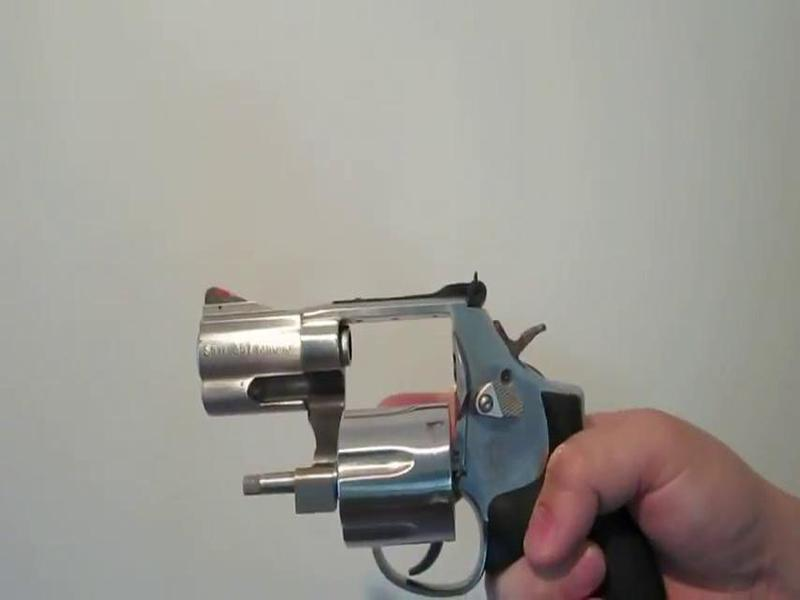Revolver: (165, 242, 665, 600)
